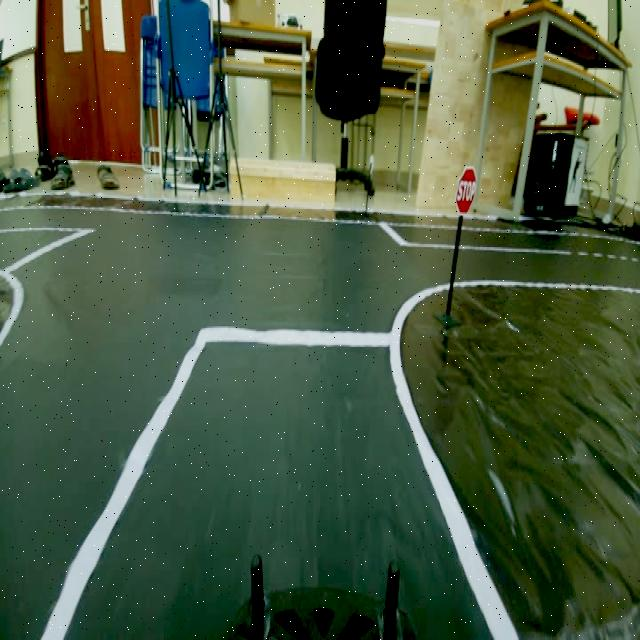stop: (454, 162, 478, 218)
